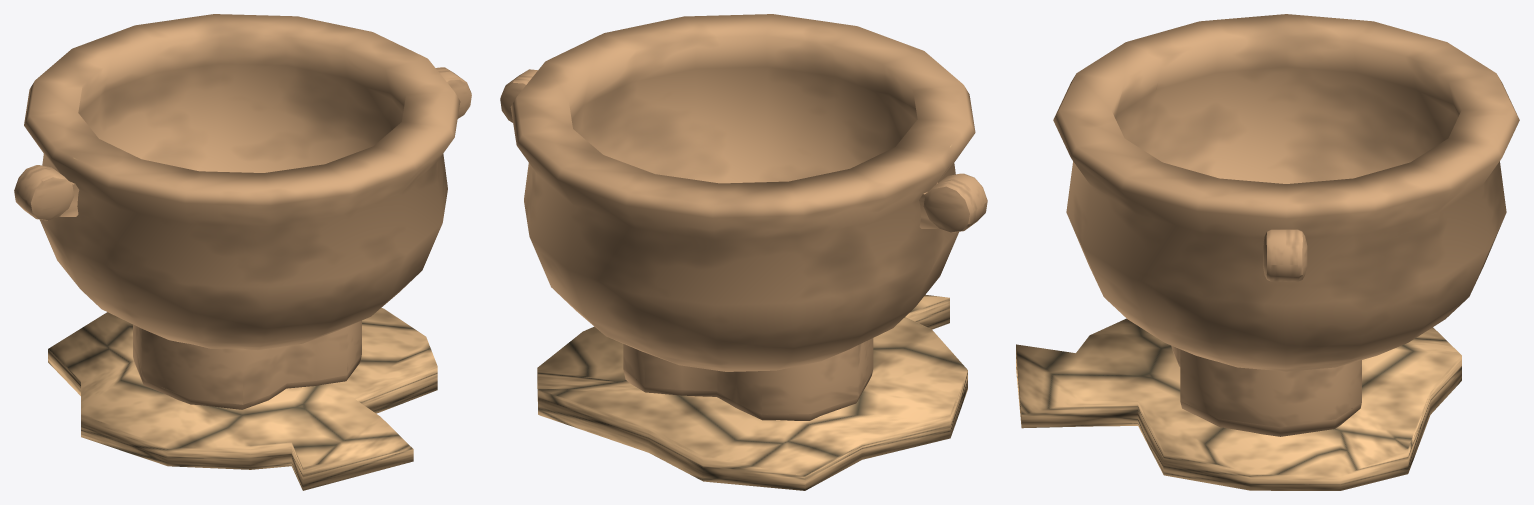
The model's file is Caldero.fbx.
3 renders of one model, left to right at view 1: azimuth 30°, elevation 25°; view 2: azimuth 150°, elevation 25°; view 3: azimuth 270°, elevation 25°, orthographic. The views are drawn at different scales.
Parts seen in each view (by area): view 1: Cube.002; view 2: Cube.002; view 3: Cube.002.
Boxes of the visible parts, x1,y1,x2,y2 form: Cube.002: [14, 14, 471, 490]; Cube.002: [500, 14, 987, 490]; Cube.002: [1016, 14, 1519, 490].
Bounding box in the file's own units: 1.62 × 0.9686 × 1.5.
